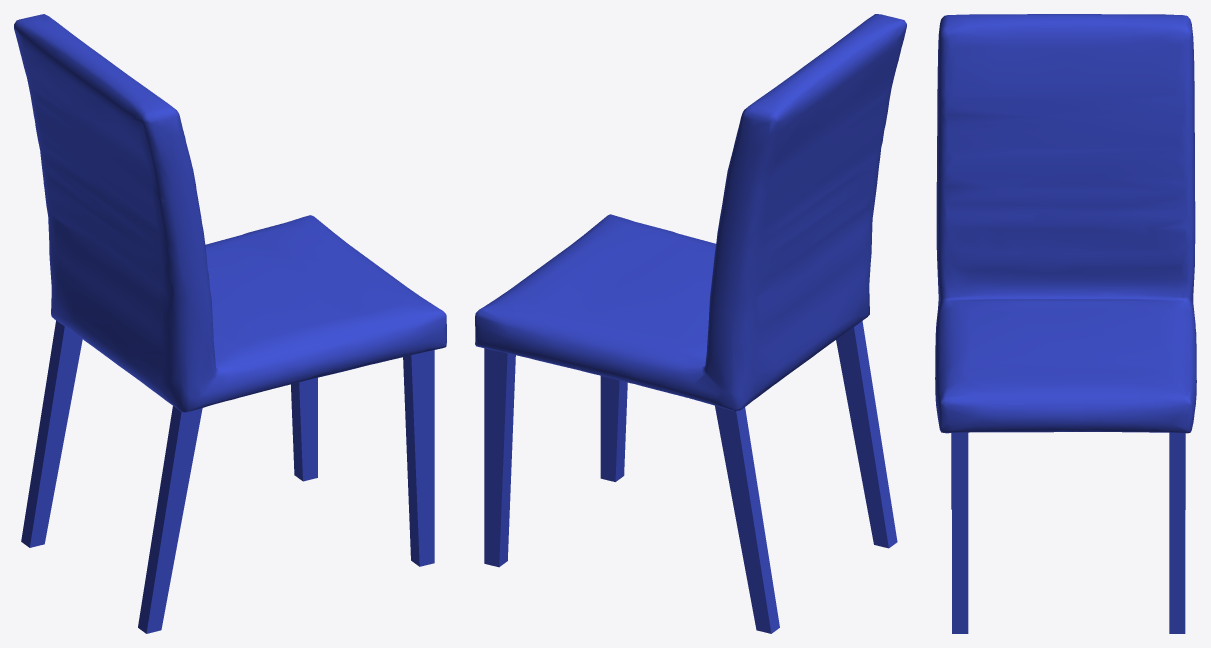
File: Henriksdal.fbx
3 views of the same model, side by side, from view 1: azimuth 30°, elevation 25°; view 2: azimuth 150°, elevation 25°; view 3: azimuth 270°, elevation 25° (orthographic). The views are drawn at different scales.
Parts seen in each view (by area): view 1: LOW; view 2: LOW; view 3: LOW.
Boxes of the visible parts, box(x1,y1,x2,y2) form: LOW: box(14, 14, 446, 633); LOW: box(475, 14, 906, 633); LOW: box(935, 14, 1196, 633).
Bounding box in the file's own units: 144 × 236 × 114.
